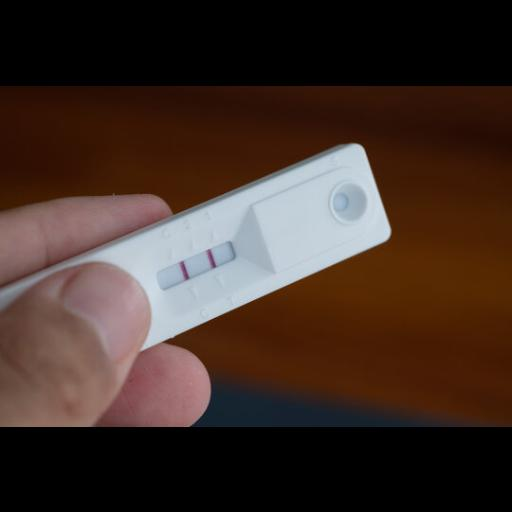Pos: (3, 139, 394, 392)
